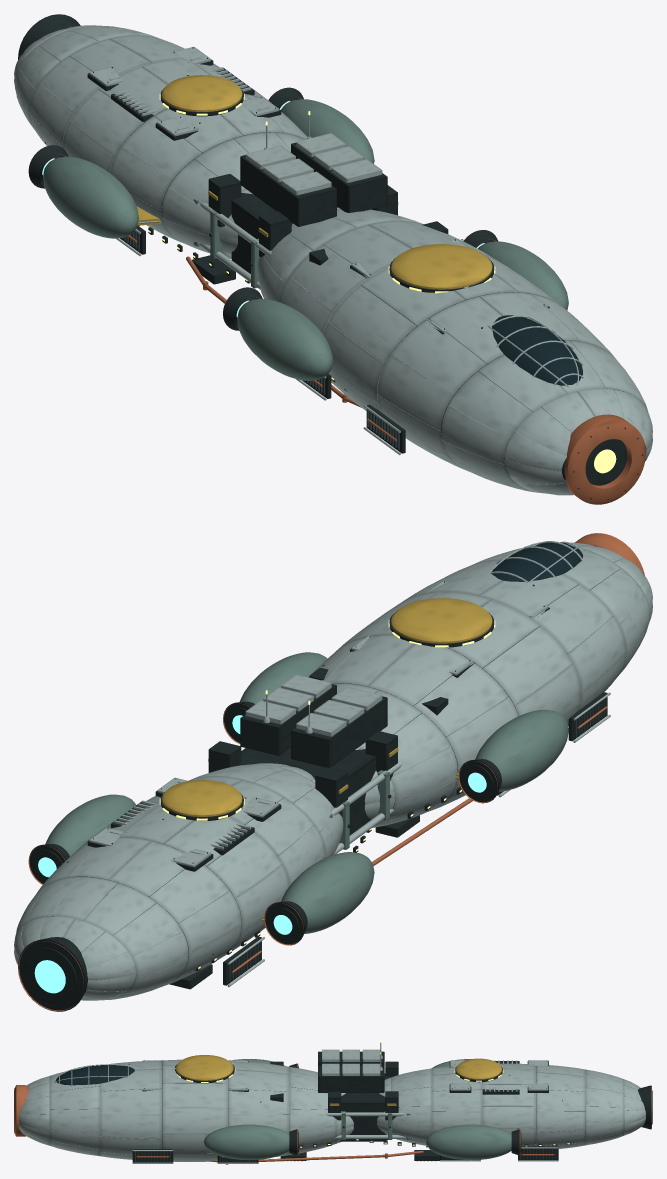
3 renders of one model, top to bottom at view 1: azimuth 30°, elevation 25°; view 2: azimuth 150°, elevation 25°; view 3: azimuth 270°, elevation 25°, orthographic. The views are drawn at different scales.
Visible parts, largest first — view 1: HullPlates, DriveAssemblies, CargoBridge, Systems, NoseShield, Glazing, RecessedEquipment, CanopyFrames, PressureHull, Windows; view 2: HullPlates, DriveAssemblies, CargoBridge, Systems, RecessedEquipment, Glazing, NoseShield, CanopyFrames, PressureHull; view 3: HullPlates, DriveAssemblies, CargoBridge, Systems, RecessedEquipment, Glazing, NoseShield, CanopyFrames, PressureHull.
Boxes of the visible parts, left/top/right/bottom form: HullPlates: left=14, top=25, right=652, bottom=495; DriveAssemblies: left=18, top=14, right=568, bottom=380; CargoBridge: left=193, top=133, right=448, bottom=289; Systems: left=87, top=47, right=626, bottom=484; NoseShield: left=565, top=414, right=645, bottom=504; Glazing: left=492, top=315, right=582, bottom=385; RecessedEquipment: left=116, top=225, right=405, bottom=455; CanopyFrames: left=487, top=315, right=583, bottom=387; PressureHull: left=40, top=46, right=627, bottom=485; Windows: left=148, top=89, right=616, bottom=473; HullPlates: left=14, top=542, right=652, bottom=1000; DriveAssemblies: left=18, top=652, right=568, bottom=1011; CargoBridge: left=208, top=668, right=448, bottom=854; Systems: left=87, top=581, right=549, bottom=989; RecessedEquipment: left=223, top=692, right=610, bottom=987; Glazing: left=492, top=542, right=582, bottom=581; NoseShield: left=575, top=533, right=644, bottom=575; CanopyFrames: left=487, top=541, right=583, bottom=583; PressureHull: left=36, top=569, right=619, bottom=984; HullPlates: left=19, top=1059, right=645, bottom=1161; DriveAssemblies: left=203, top=1059, right=652, bottom=1160; CargoBridge: left=270, top=1049, right=411, bottom=1141; Systems: left=142, top=1042, right=548, bottom=1164; RecessedEquipment: left=132, top=1146, right=558, bottom=1163; Glazing: left=55, top=1065, right=134, bottom=1085; NoseShield: left=14, top=1085, right=28, bottom=1136; CanopyFrames: left=54, top=1064, right=129, bottom=1085; PressureHull: left=27, top=1061, right=637, bottom=1148.
Bounding box in the file's own units: 5.39 × 3.32 × 18.
1 material, 1 textured.
